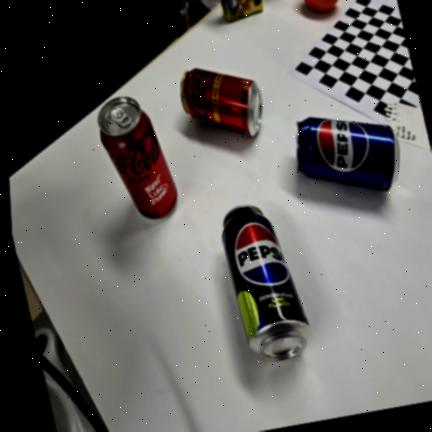can_coke_decaf: (181, 68, 262, 137)
can_coke_zero: (98, 97, 178, 219)
can_pepsi: (296, 117, 399, 191)
can_pepsi_zero: (222, 206, 310, 361)
